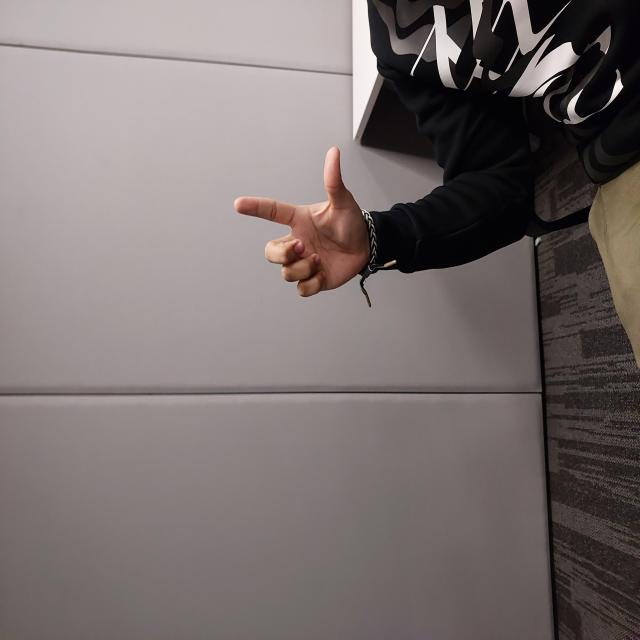L: (340, 232, 496, 370)
